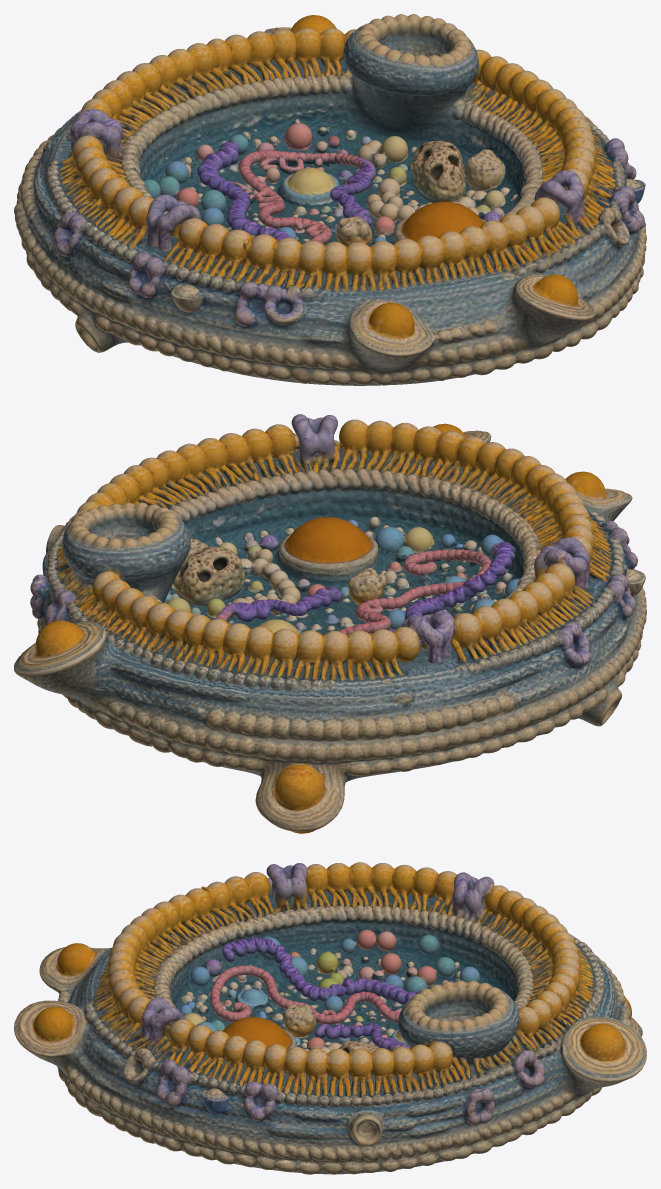
The model's file is protocell-tripo-web.glb.
3 renders of one model, top to bottom at view 1: azimuth 30°, elevation 25°; view 2: azimuth 150°, elevation 25°; view 3: azimuth 270°, elevation 25°, orthographic. The views are drawn at different scales.
Visible parts, largest first — view 1: tripo_node_c05c6e2e-5bbf-40aa-a5d0-533f7ca6ce5c; view 2: tripo_node_c05c6e2e-5bbf-40aa-a5d0-533f7ca6ce5c; view 3: tripo_node_c05c6e2e-5bbf-40aa-a5d0-533f7ca6ce5c.
Part boxes in pixels (x1=…): tripo_node_c05c6e2e-5bbf-40aa-a5d0-533f7ca6ce5c: x1=14, y1=14, x2=646, y2=385; tripo_node_c05c6e2e-5bbf-40aa-a5d0-533f7ca6ce5c: x1=14, y1=414, x2=646, y2=833; tripo_node_c05c6e2e-5bbf-40aa-a5d0-533f7ca6ce5c: x1=14, y1=862, x2=646, y2=1174.
Bounding box in the file's own units: 0.8479 × 0.3004 × 0.9791.
1 material, 1 textured.
